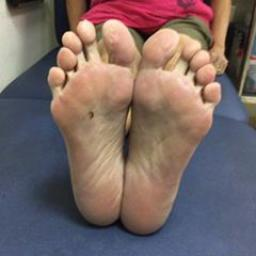Plantar View -Both Feet-: (40, 15, 225, 238)
